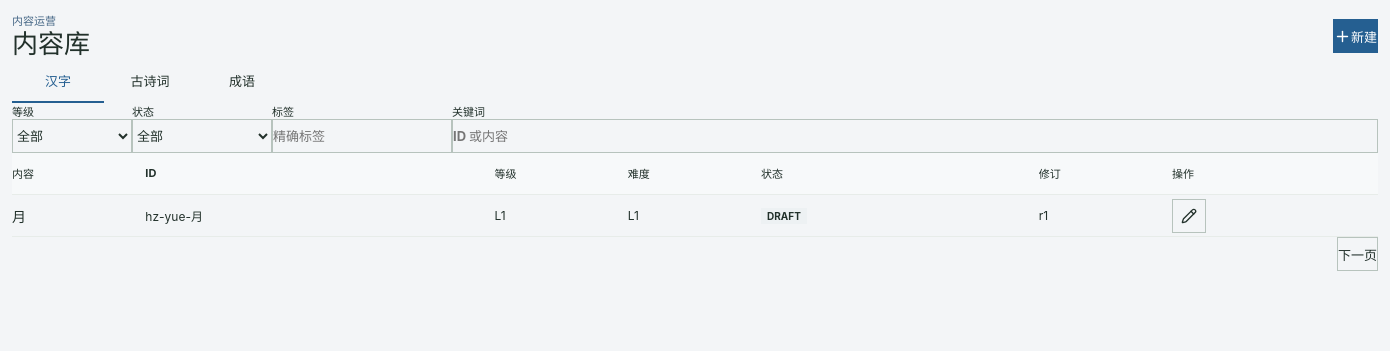
Test: ContentLibraryPage › shows a retry control when loading the next page fails
Expected: the text "hz-yue-月" is shown, [145,194,494,236]
What coordinates should you click on to do the following:
click the button "下一页"
I would click on:
 (1358, 254)
Its box is [1337,237,1378,271].
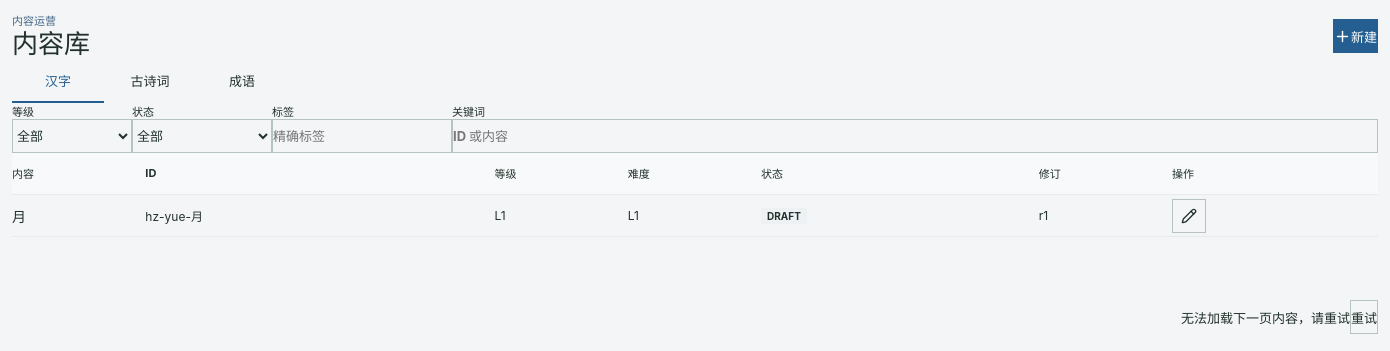
Expected: the text "hz-yue-月" is shown, [145,194,494,236]
Expected: the message shows "无法加载下一页内容，请重试", [1181,310,1350,326]
What coordinates should you click on to do the following:
click the button with aria-label "重试加载下一页内容"
I would click on:
 (1364, 317)
Its box is [1350,300,1378,334].
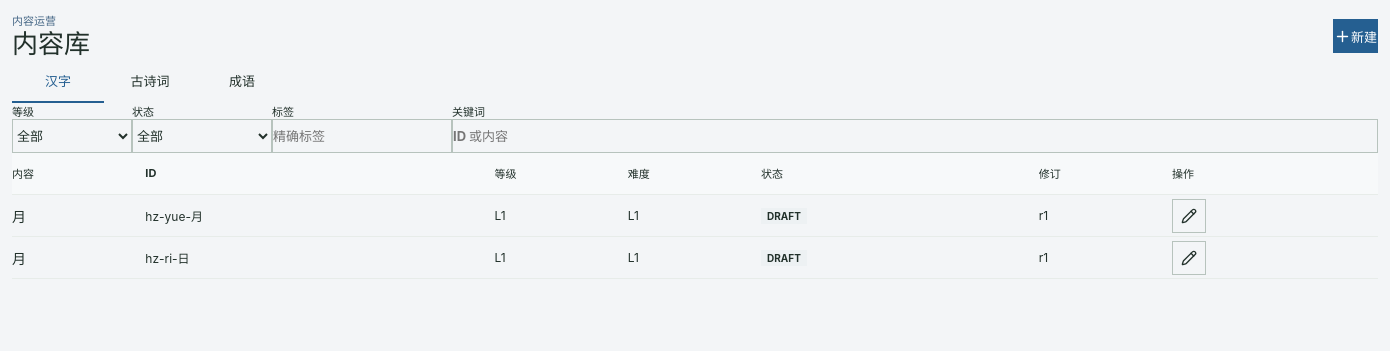
Expected: the text "hz-ri-日" is shown, [145,236,494,278]
